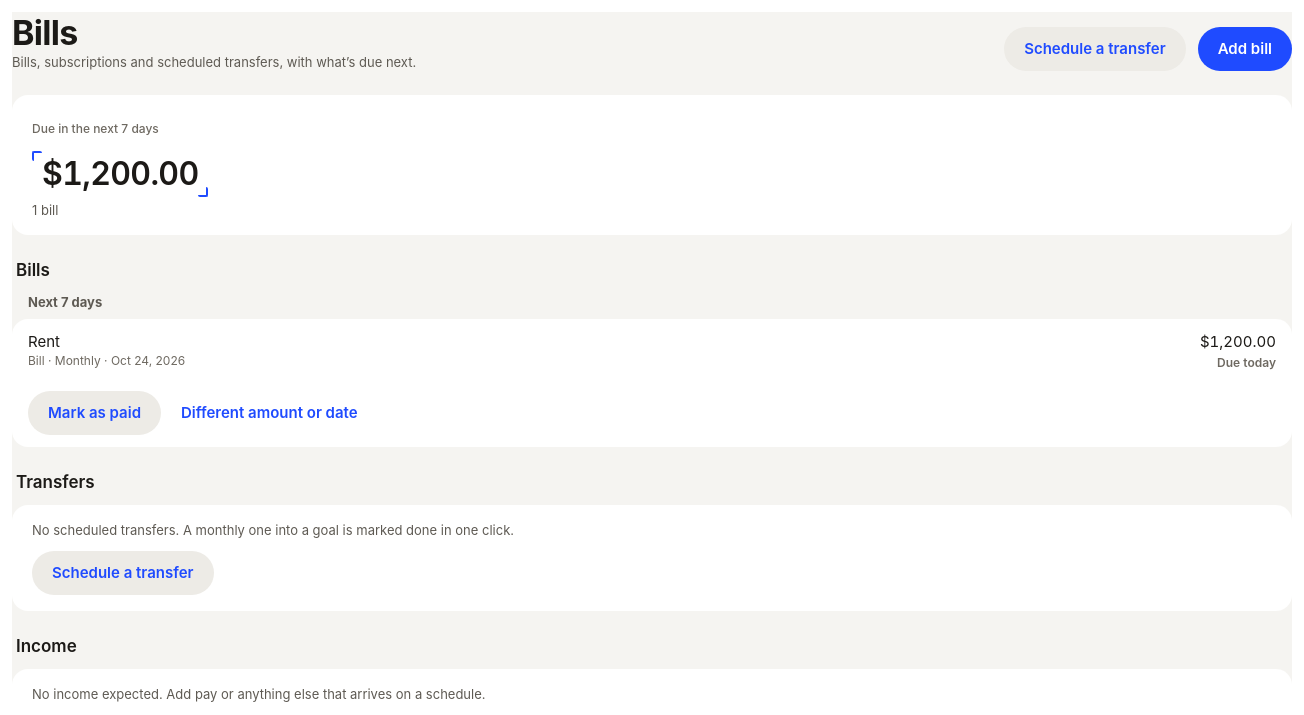
Test: BillsPage › keeps the bill unpaid and explains when the database refuses
This screenshot has width=1304, height=715.
Click the button "Mark as paid". click: (94, 413)
box: [28,391,161,435]
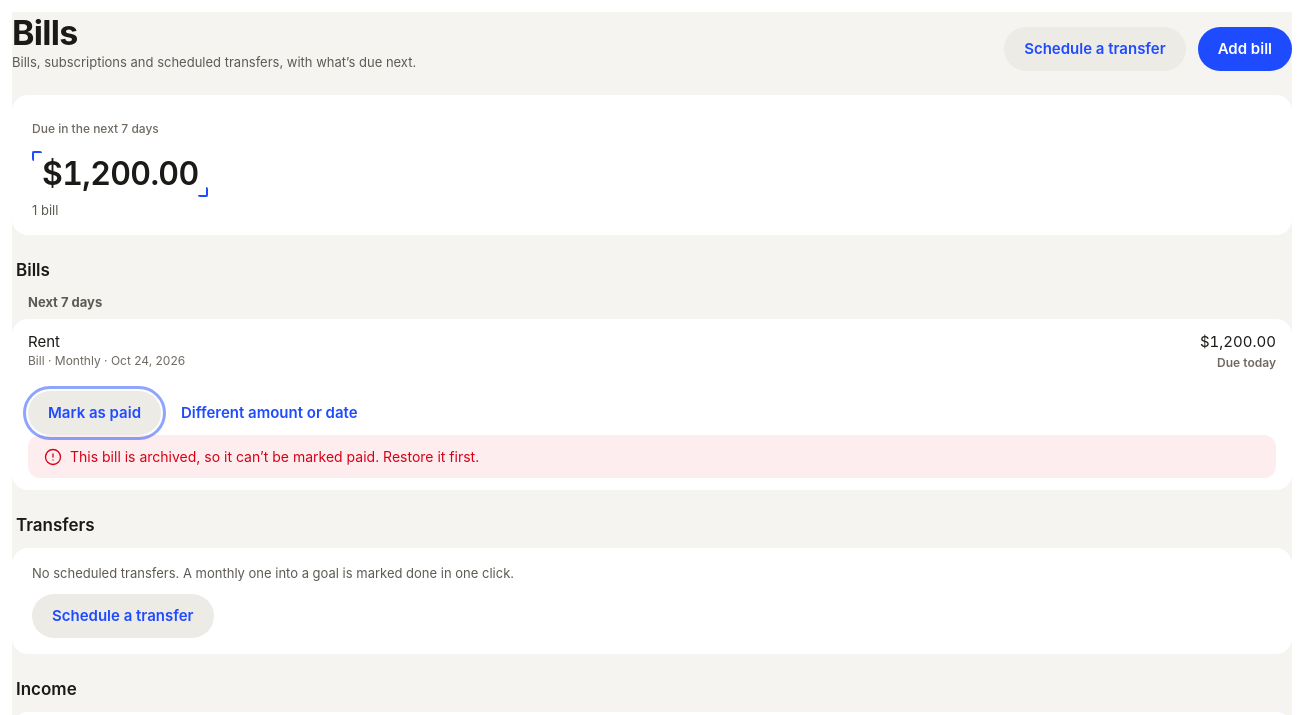
Expected: the text "archived" is shown, [70,448,479,465]
